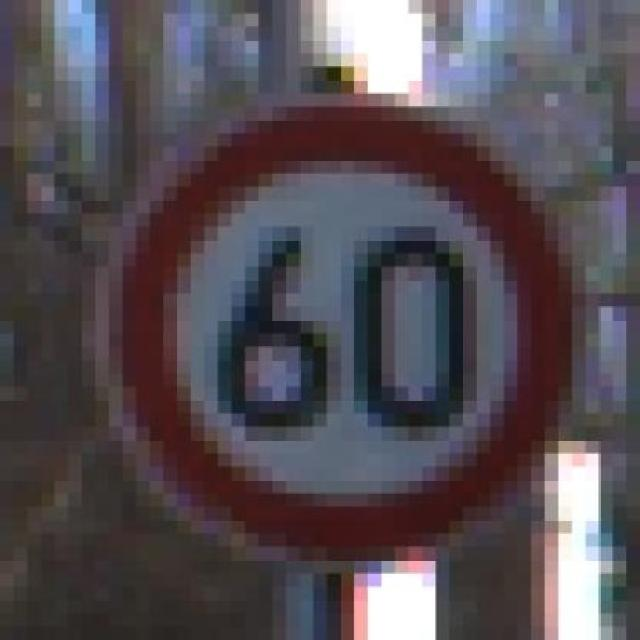forb_speed_over_60: (105, 100, 567, 558)
